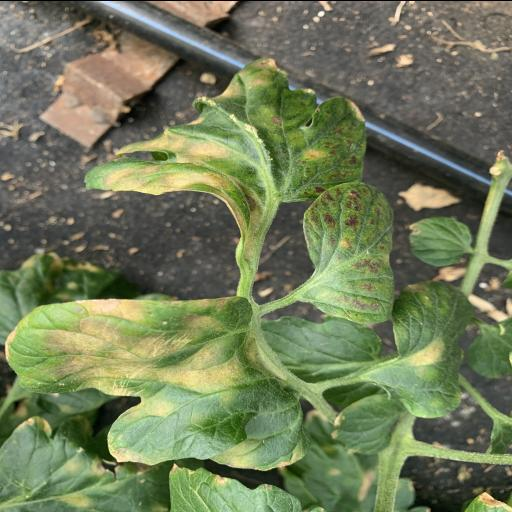disease_tomato: (4, 296, 312, 468), (82, 58, 366, 202), (373, 280, 475, 418)
